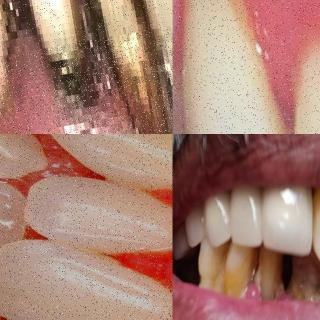Gum Swelling: (241, 0, 320, 134)
calculus: (106, 0, 172, 134), (22, 0, 87, 122), (0, 0, 50, 66), (196, 247, 226, 297), (246, 260, 274, 306), (290, 262, 320, 302)
stains: (226, 255, 252, 297)
